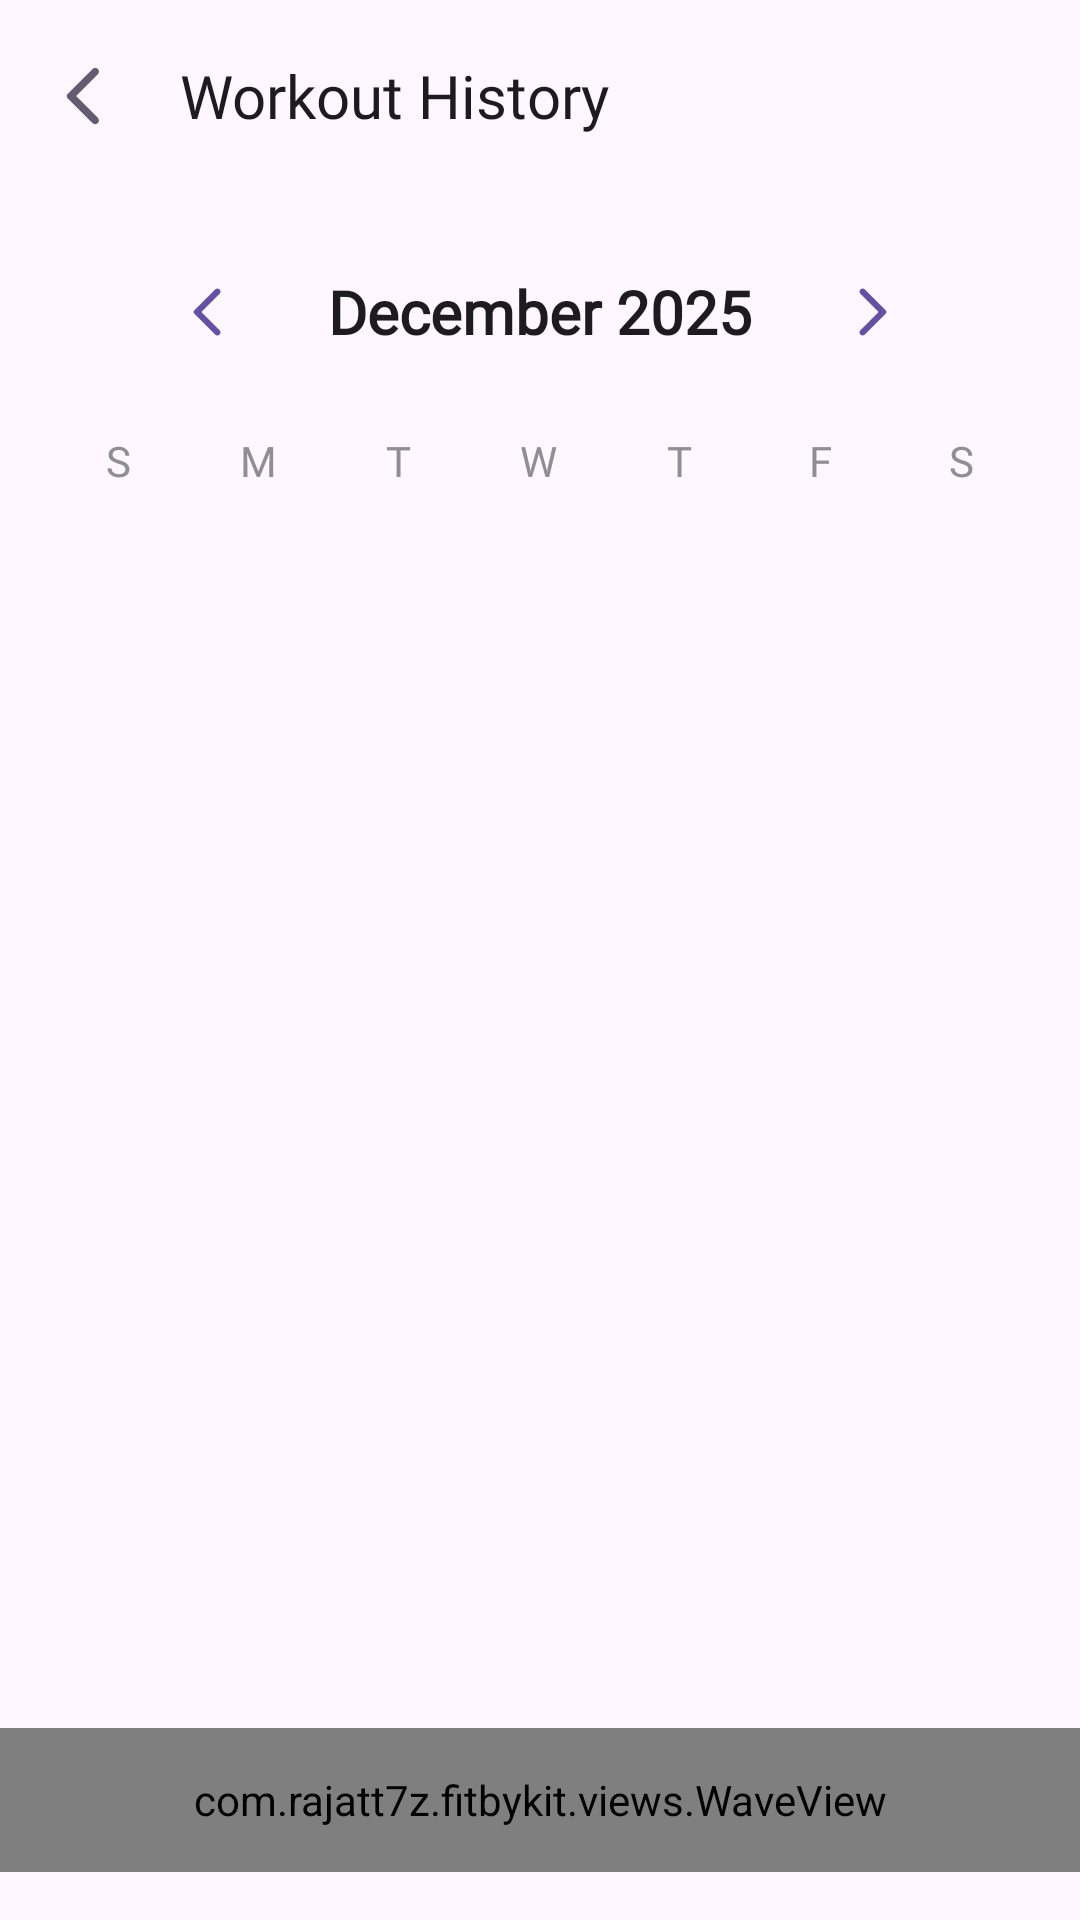

Locate icon controls on the screen. Image size 1080 x 1920, boxes as (x1, y1, x2, y2).
arrow forward: (859, 288, 887, 336)
